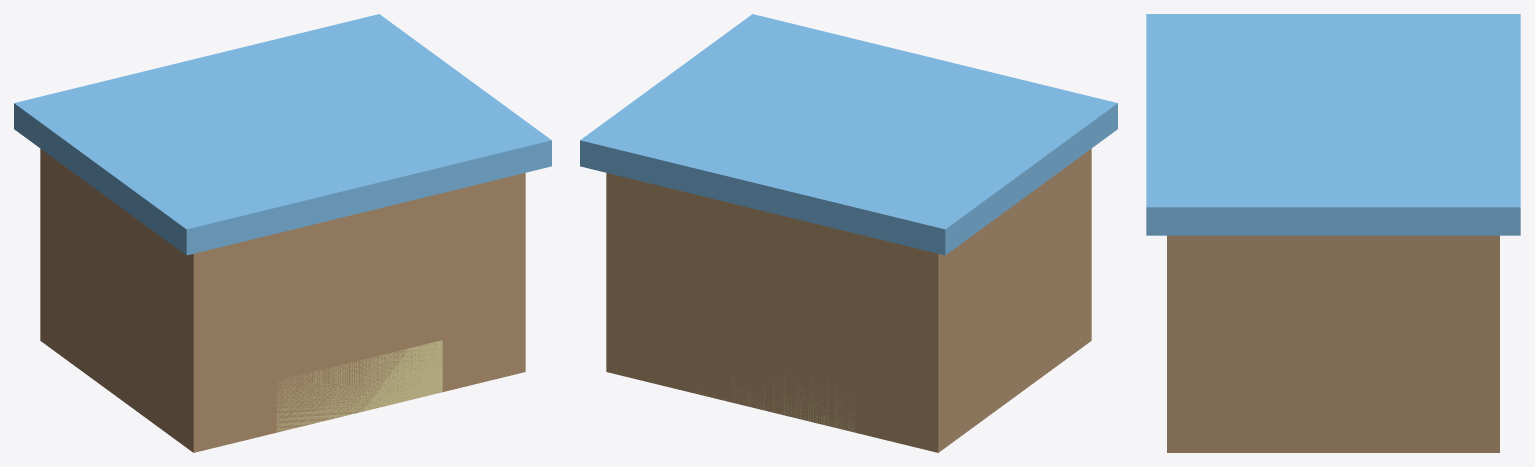
The model's file is Prop_Live_AMF_GoatShelter_V7.glb.
3 views of the same model, side by side, from view 1: azimuth 30°, elevation 25°; view 2: azimuth 150°, elevation 25°; view 3: azimuth 270°, elevation 25° (orthographic). The views are drawn at different scales.
Visible parts, largest first — view 1: Prop_Live_AMF_GoatShelter_V7; view 2: Prop_Live_AMF_GoatShelter_V7; view 3: Prop_Live_AMF_GoatShelter_V7.
Part boxes in pixels (box(x1,y1,x2,y2)): Prop_Live_AMF_GoatShelter_V7: box(14, 14, 551, 452); Prop_Live_AMF_GoatShelter_V7: box(580, 14, 1117, 452); Prop_Live_AMF_GoatShelter_V7: box(1146, 14, 1520, 452).
Size of the model in its own units: 2.2 by 1.35 by 1.8.
